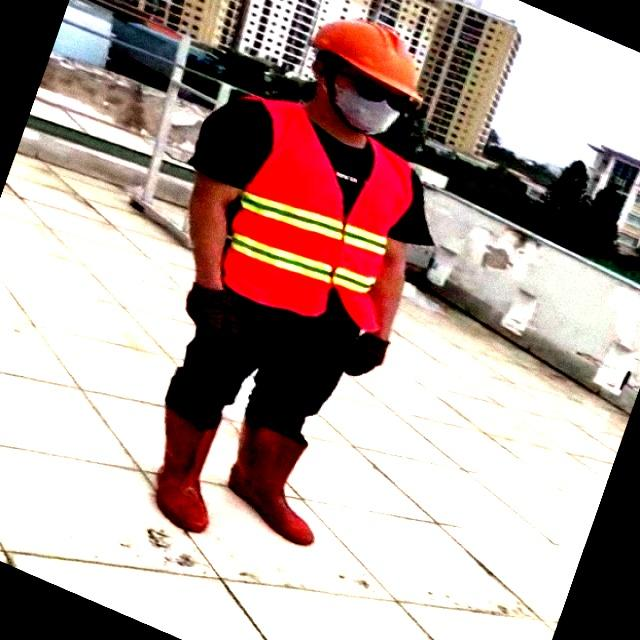Capacete: (312, 19, 421, 100)
Colete: (223, 100, 412, 331)
Oculos: (343, 73, 409, 110)
